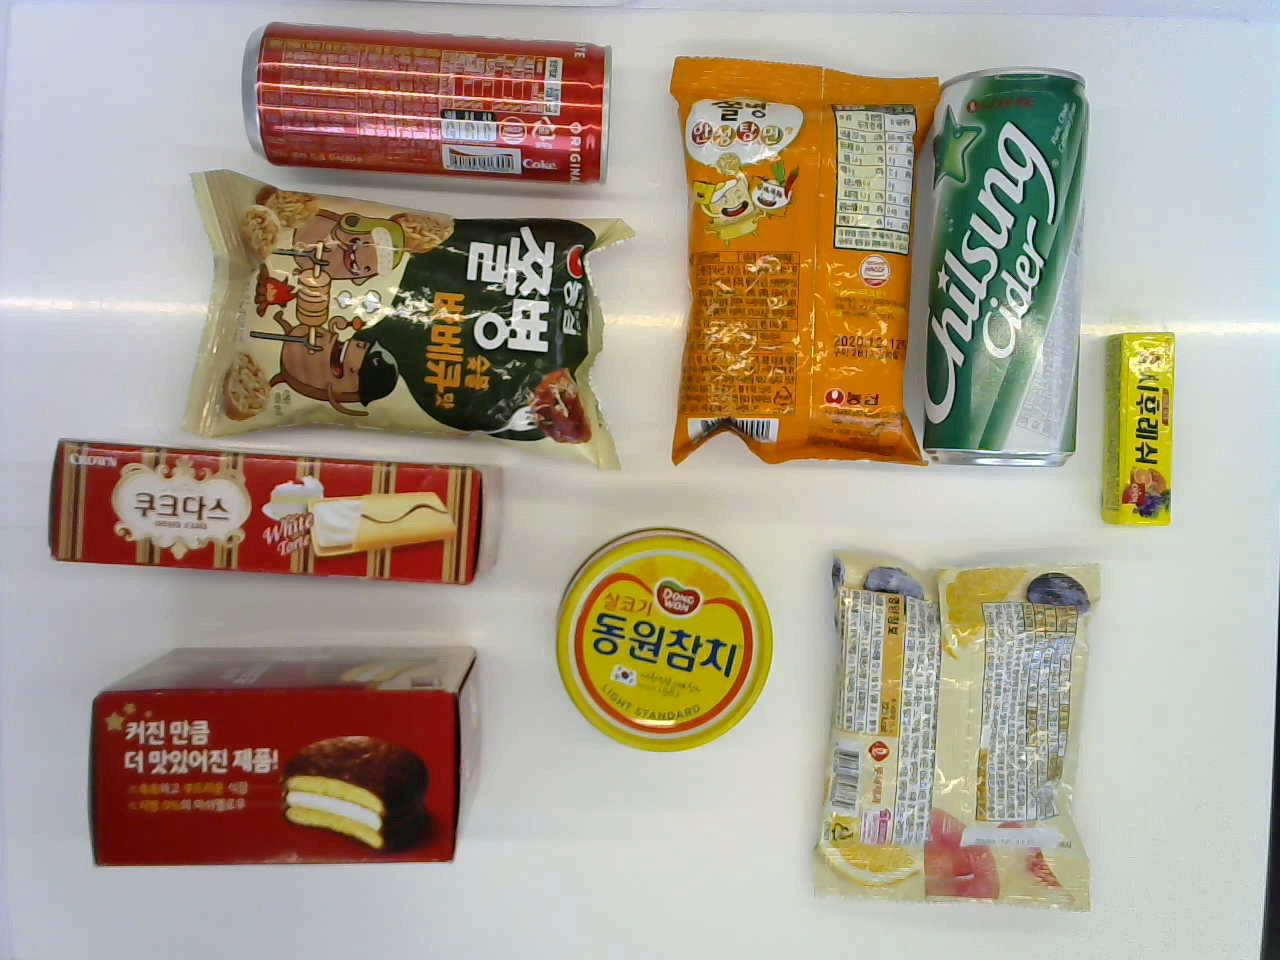chocopie: (86, 636, 487, 882)
cidar: (922, 64, 1095, 461)
coke: (231, 19, 613, 184)
couque_white: (43, 441, 513, 595)
gumi_gumi: (810, 536, 1093, 914)
jjolbyung_noodle: (667, 54, 942, 459)
jjolbyung_ori: (171, 171, 626, 451)
juicyfresh: (1099, 317, 1175, 524)
tuna: (546, 523, 767, 756)
